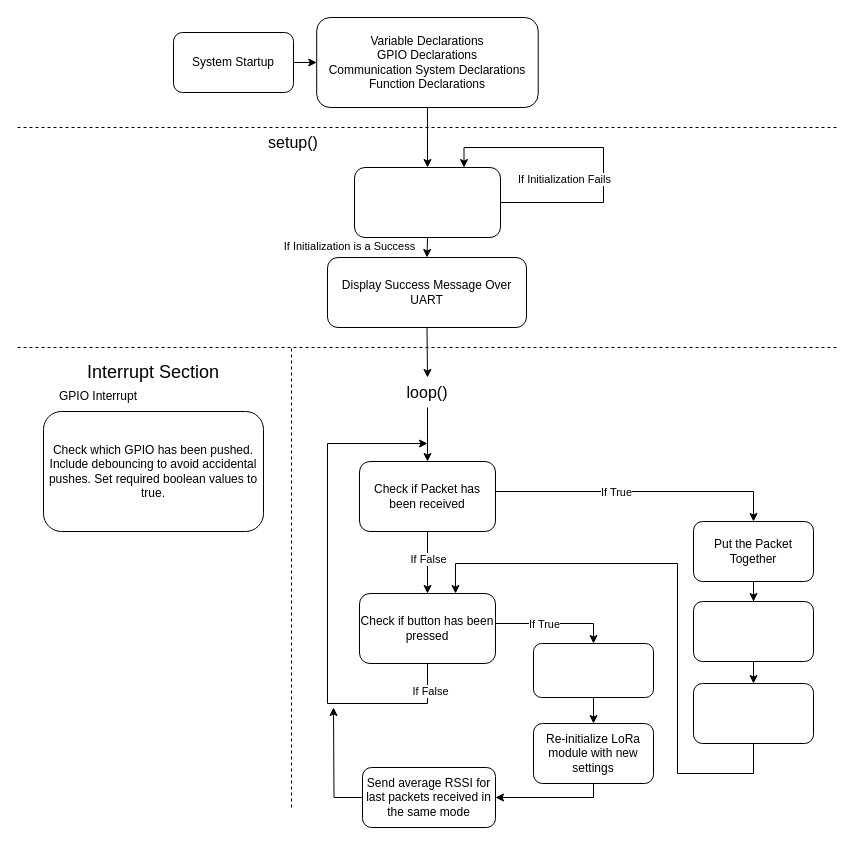
Image size: 856x845. Some labels were removed from this diagram. Each missing label, with the box of its shape:
Get RSSI value and frequency error: (692, 600, 814, 662)
GPIO Init. Communication Init. OLED Init.: (354, 166, 500, 238)
Transmit data over serial to user: (692, 682, 814, 744)
Update mode and OLED display accordingly: (532, 642, 654, 698)
